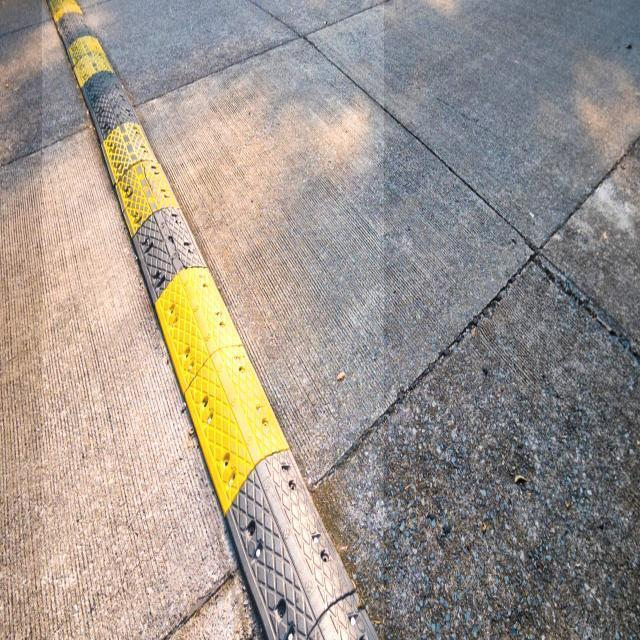Marked Bump: (57, 25, 368, 600)
